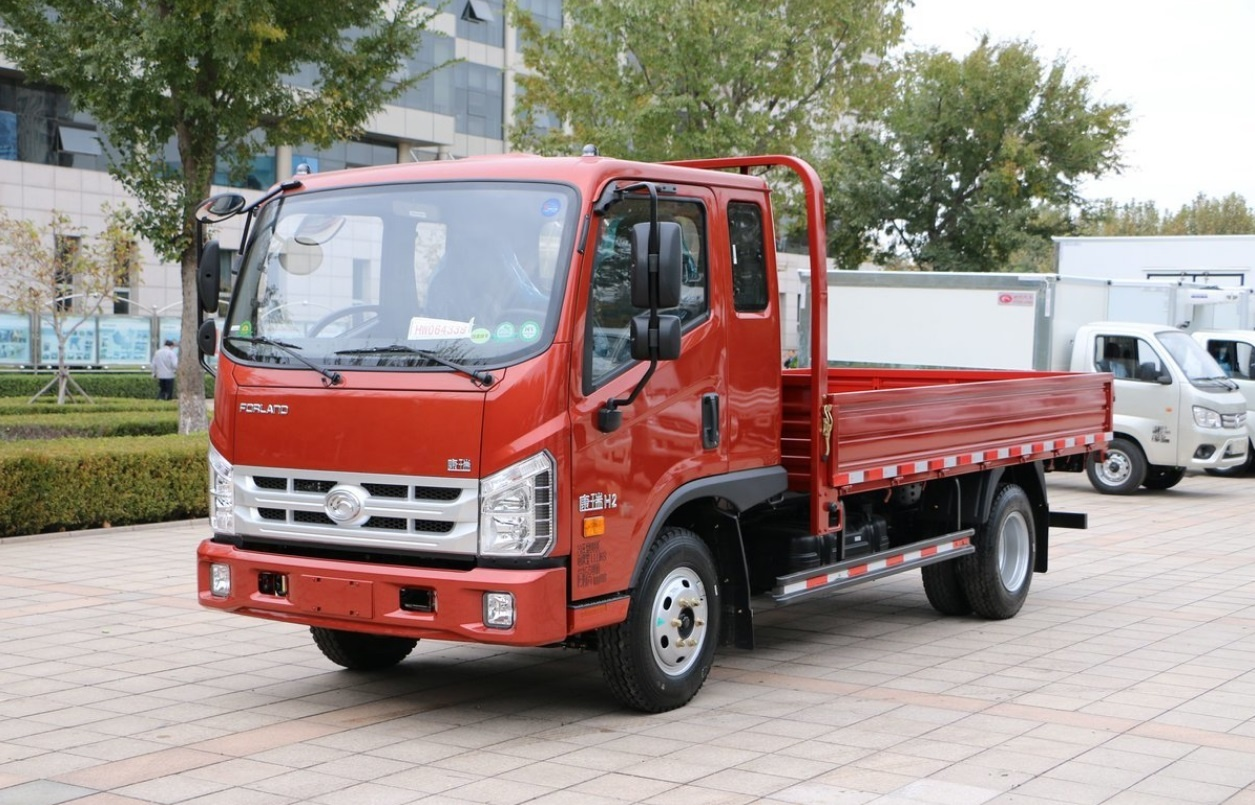heavy truck: (201, 149, 1094, 680)
